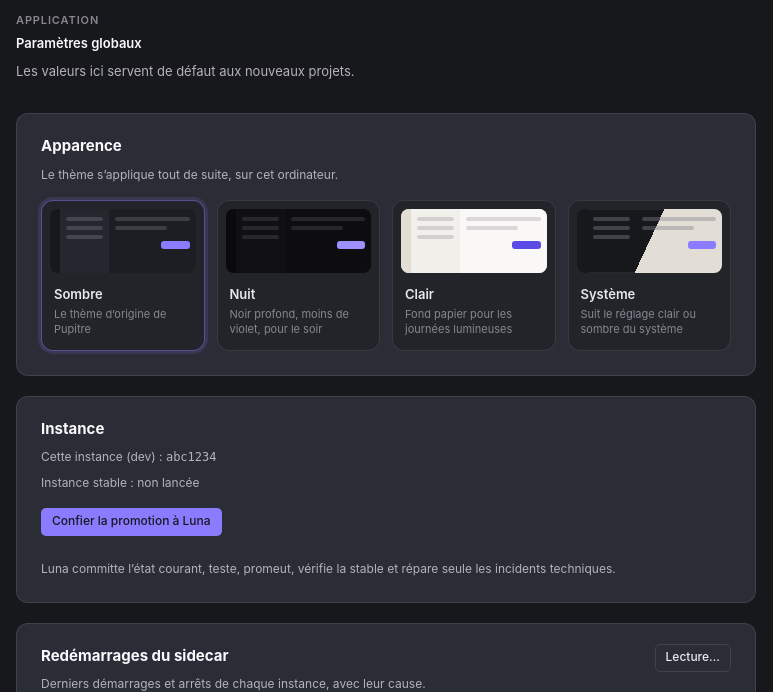
Test: crée la mission au clic
Click the button "Confier la promotion à Luna". click: (131, 522)
box: left=41, top=508, right=222, bottom=536
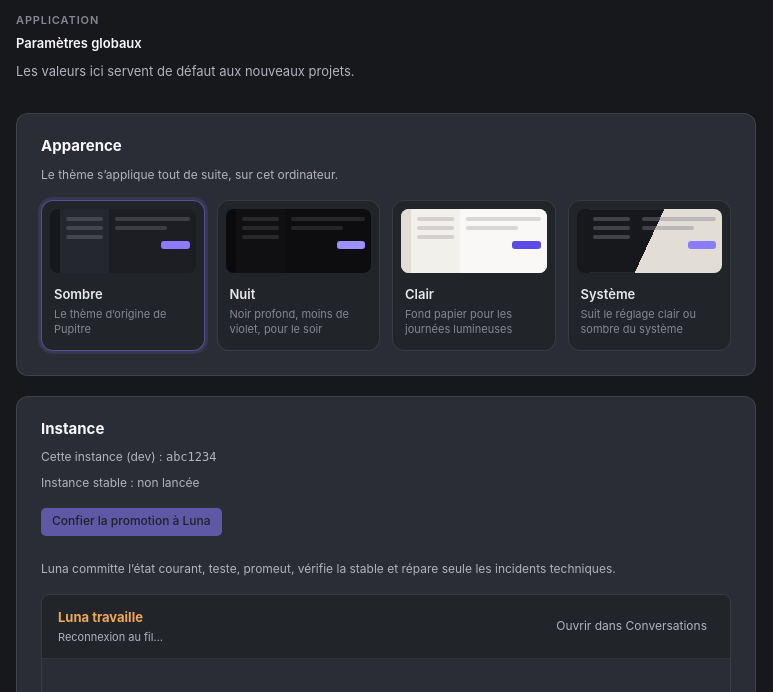
Now the text "Luna travaille" is shown, box left=58, top=609, right=143, bottom=625
